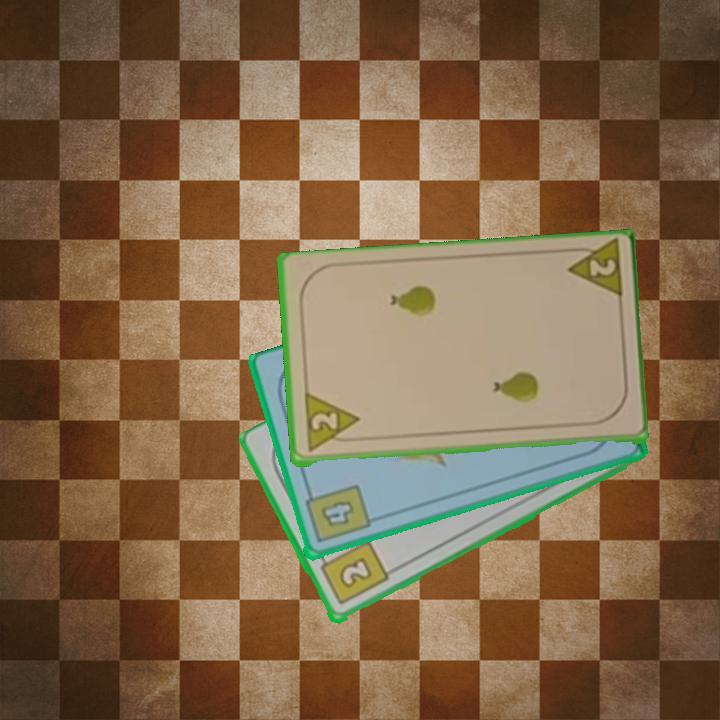2b: (315, 537, 391, 608)
2p: (561, 239, 625, 304), (300, 392, 362, 455)
4b: (301, 482, 373, 547)
